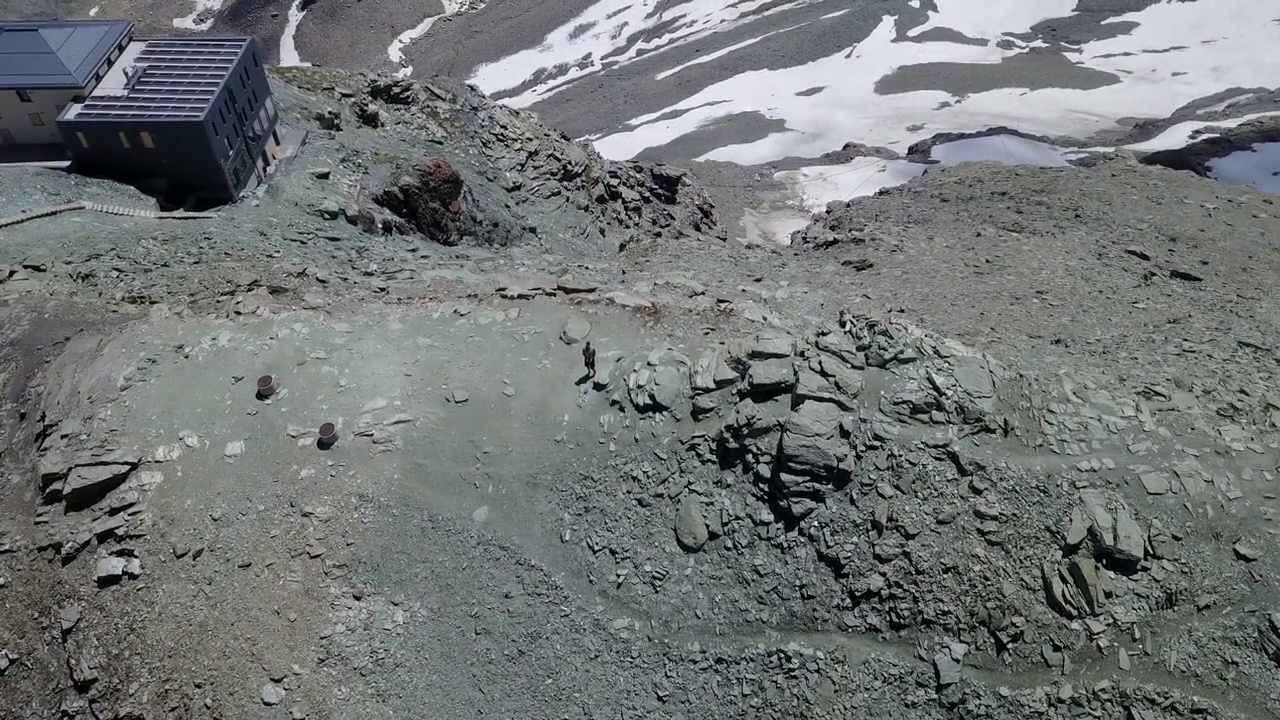insan: (578, 339, 599, 376)
